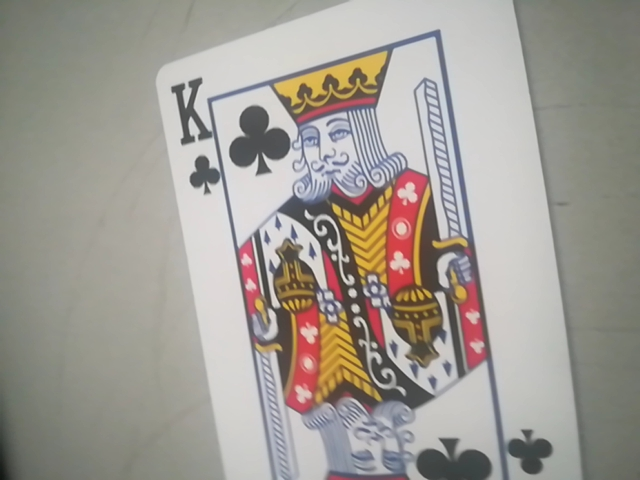mh k: (161, 8, 587, 480)
